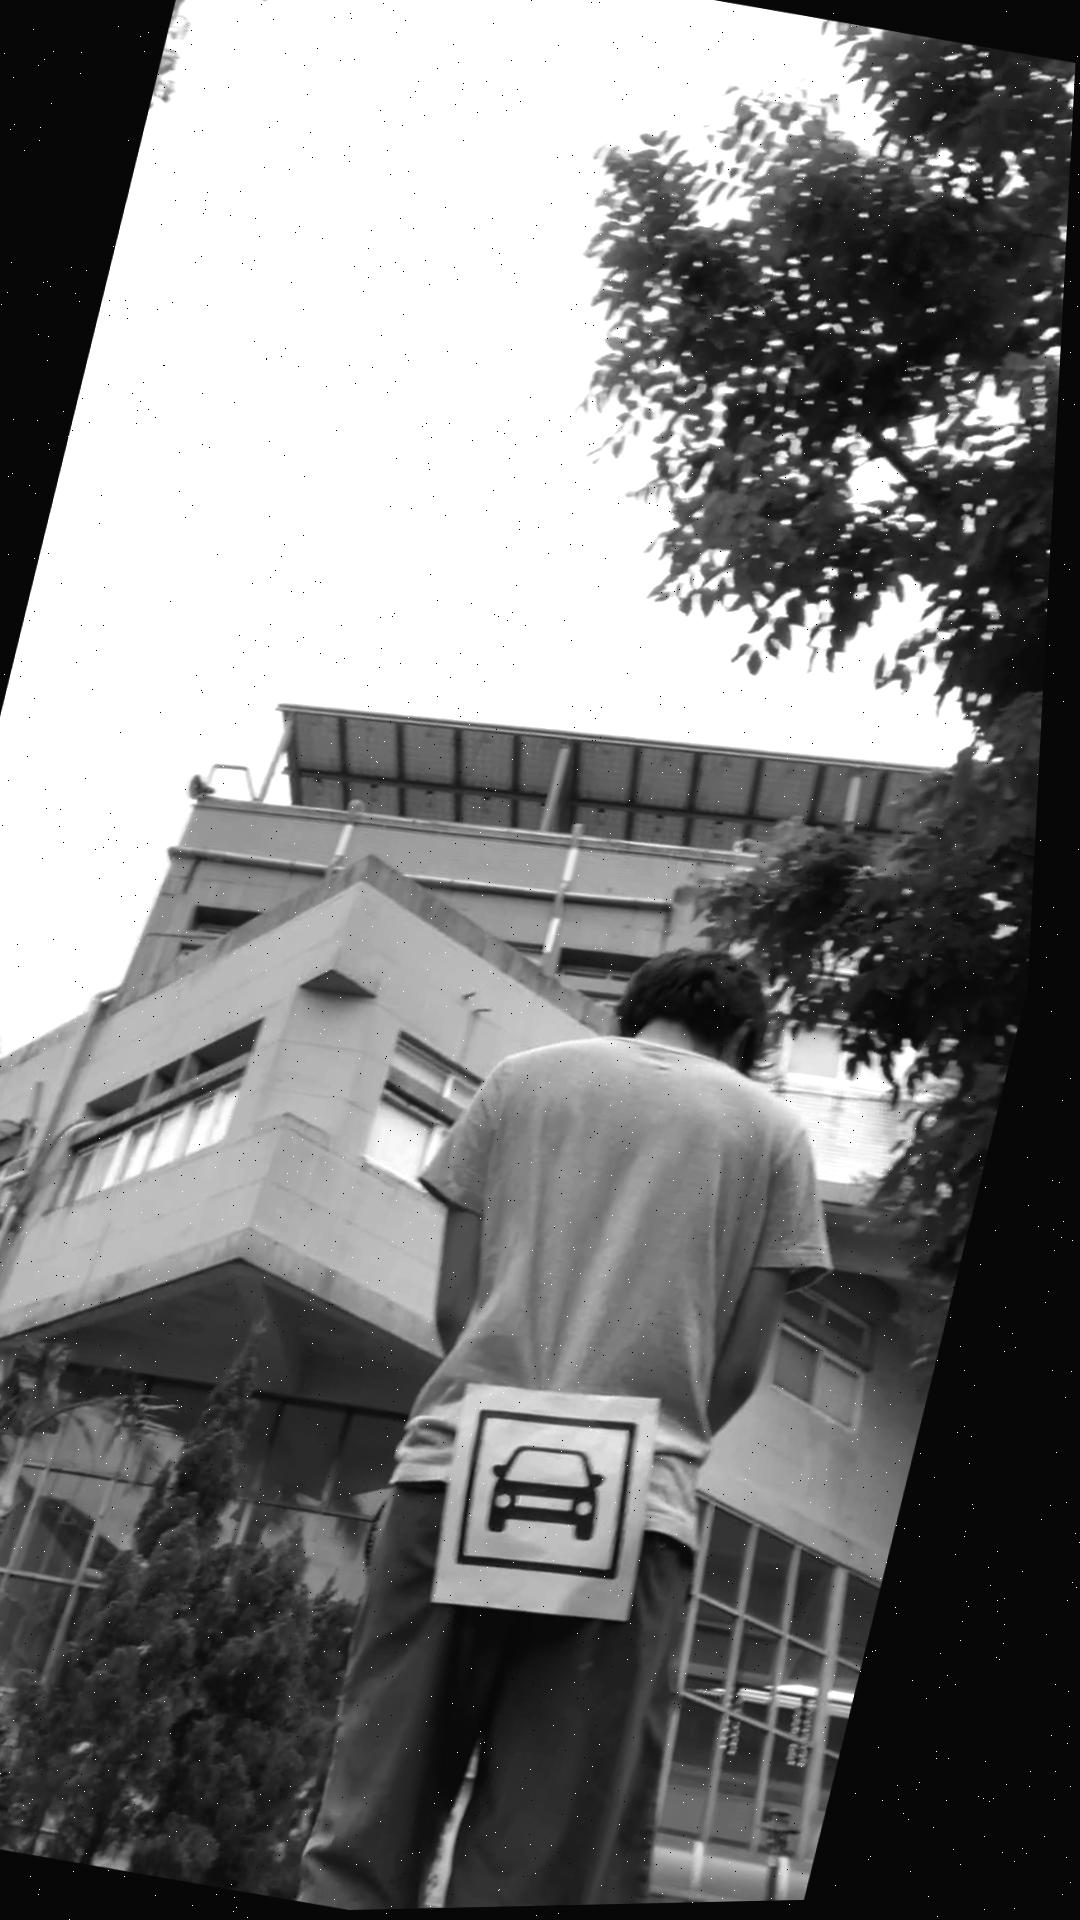car_img: (458, 1395, 671, 1598)
